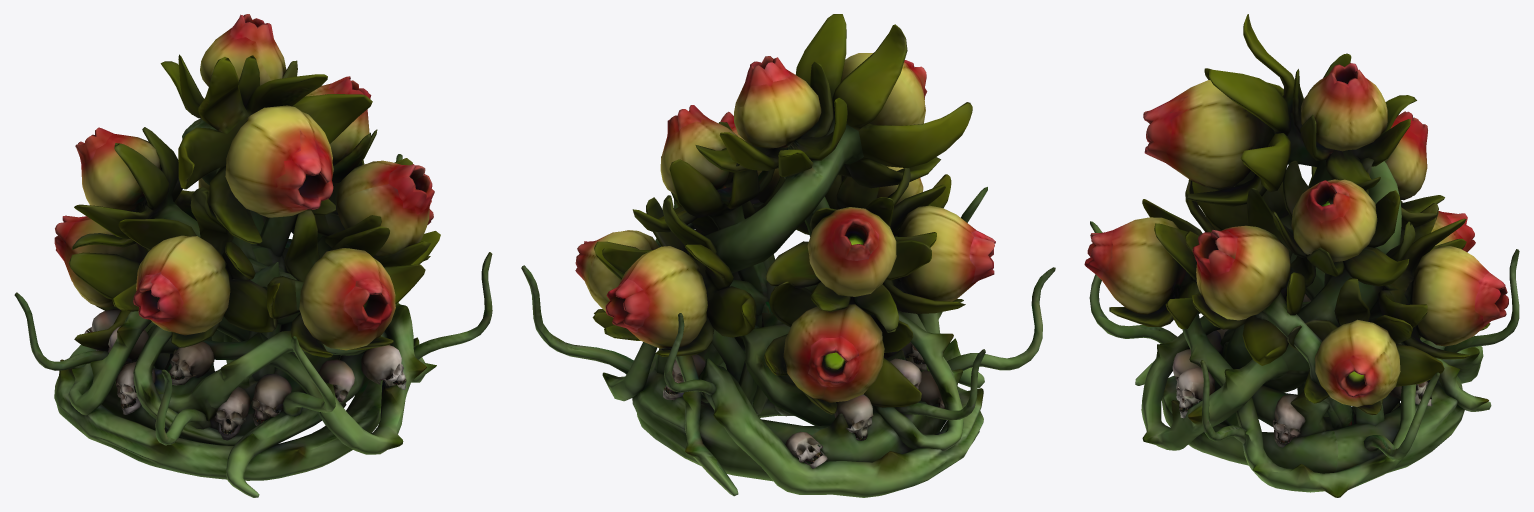
File: MZ4250 - Corpse Flower.glb
The picture shows the model from 3 angles, left to right: view 1: azimuth 30°, elevation 25°; view 2: azimuth 150°, elevation 25°; view 3: azimuth 270°, elevation 25°; orthographic projection. The views are drawn at different scales.
Parts seen in each view (by area): view 1: Cylinder.001; view 2: Cylinder.001; view 3: Cylinder.001.
Part boxes in pixels (left/top/right/bottom): Cylinder.001: left=14, top=14, right=492, bottom=497; Cylinder.001: left=521, top=14, right=1055, bottom=497; Cylinder.001: left=1084, top=14, right=1519, bottom=497.
Size of the model in its own units: 148 by 132 by 135.
Materials: 1 (1 with a texture image).
